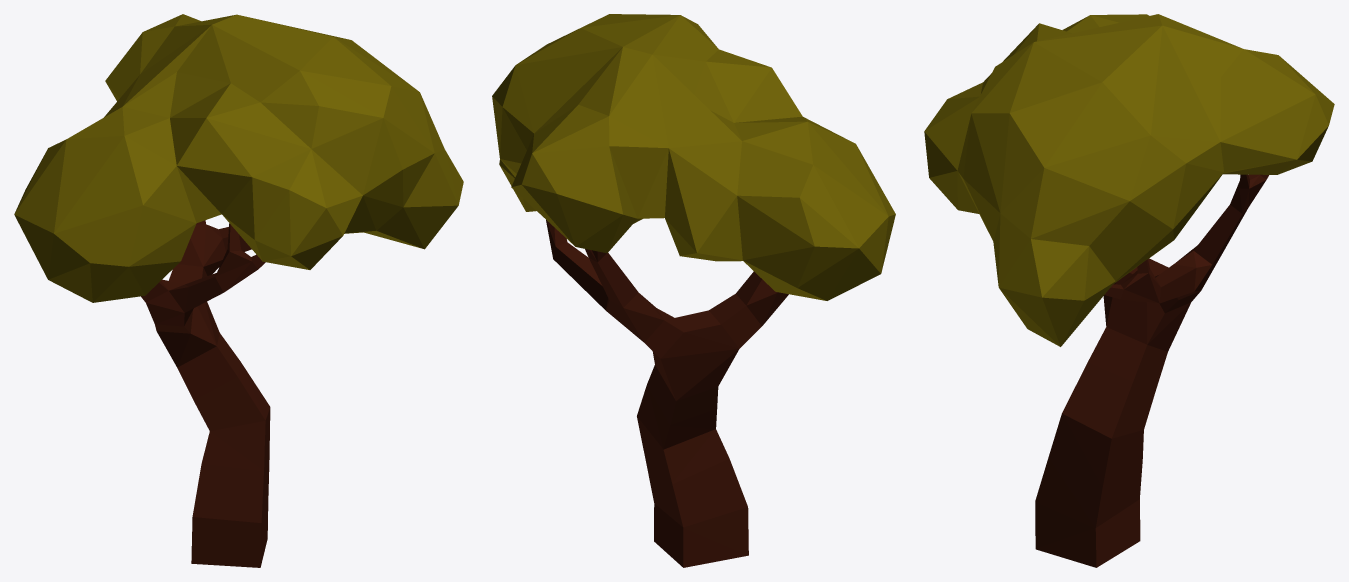
Rendered from Oak3.fbx.glb.
The picture shows the model from 3 angles, left to right: view 1: azimuth 30°, elevation 25°; view 2: azimuth 150°, elevation 25°; view 3: azimuth 270°, elevation 25°; orthographic projection. The views are drawn at different scales.
Visible parts, largest first — view 1: Oak3; view 2: Oak3; view 3: Oak3.
Part boxes in pixels (x1=…): Oak3: x1=14, y1=14, x2=463, y2=567; Oak3: x1=492, y1=14, x2=895, y2=567; Oak3: x1=924, y1=14, x2=1334, y2=567.
Size of the model in its own units: 330 by 398 by 273.
